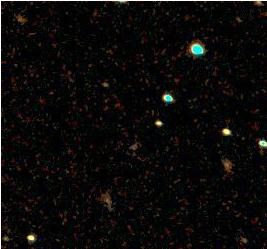star: (226, 120, 256, 150)
